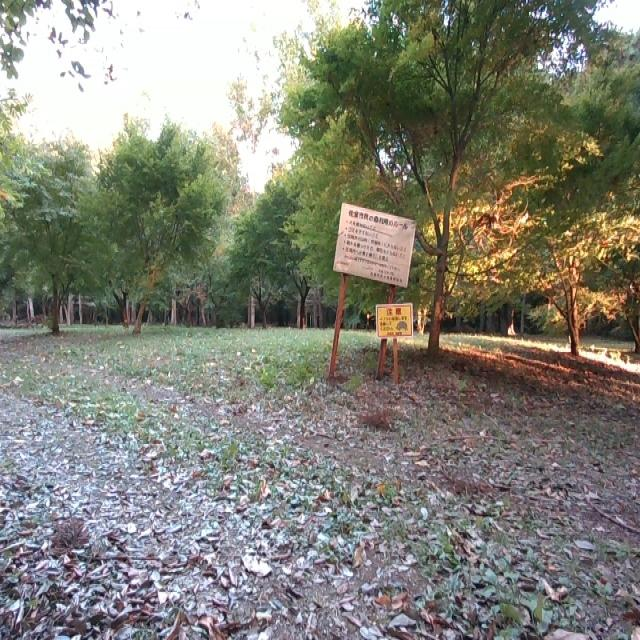artifact: (320, 190, 420, 396)
tree: (418, 0, 491, 368), (103, 141, 210, 327), (16, 145, 103, 338), (538, 221, 599, 370)
